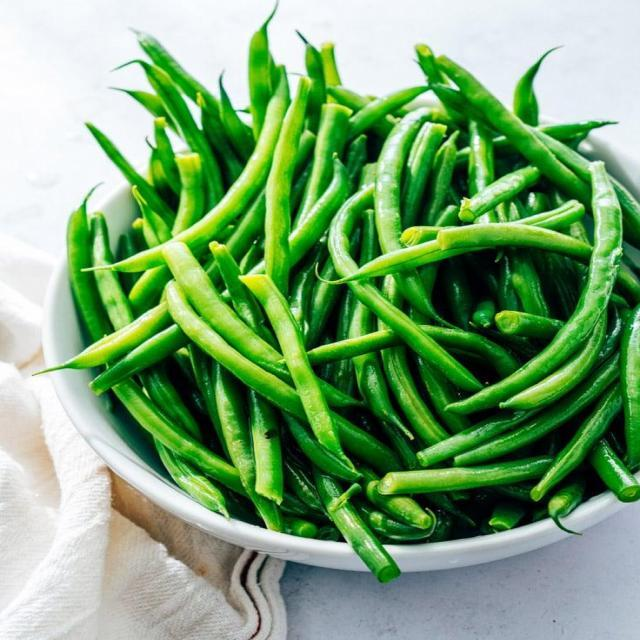Beans: (54, 0, 639, 558)
